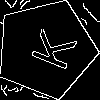K: (21, 24, 77, 72)
